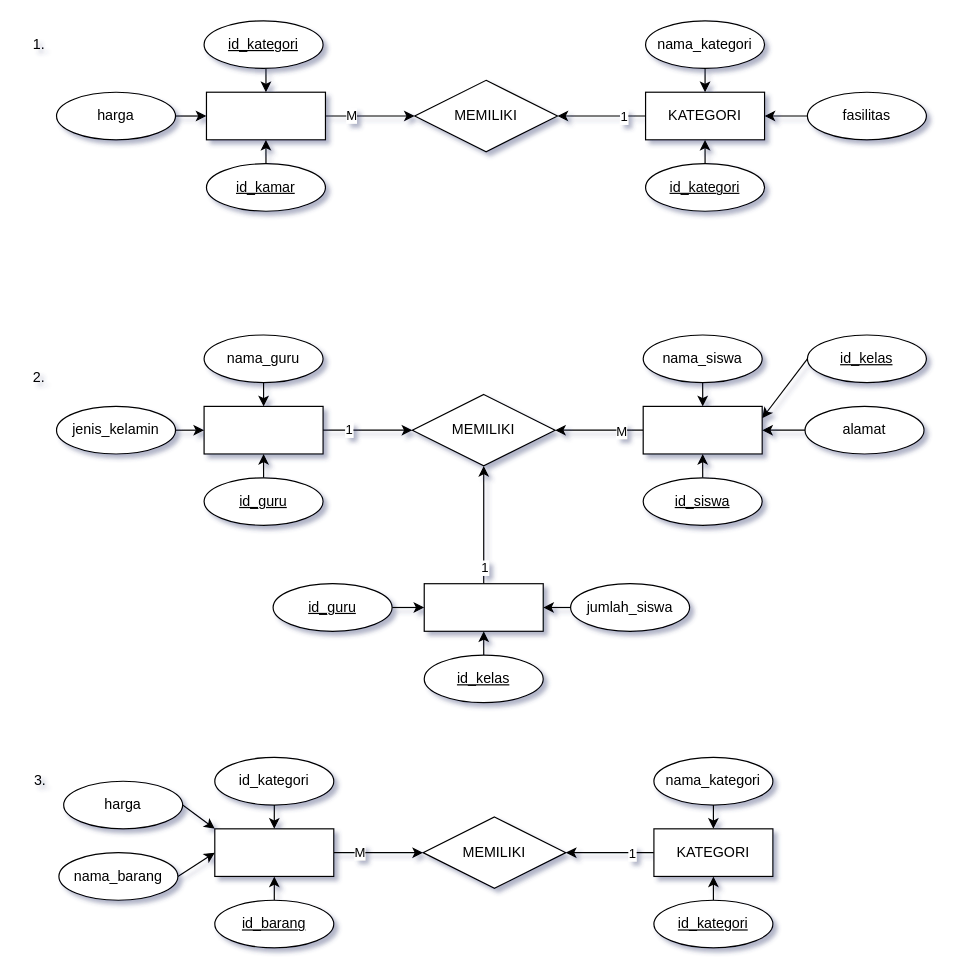
The diagram is 954 pixels wide and 976 high, and some of its shapes have lost their labels. Each missing label, with the centre of its shape:
"BARANG" belongs at point (274, 852).
"GURU" belongs at point (263, 429).
"KAMAR" belongs at point (265, 115).
"KELAS" belongs at point (483, 607).
"SISWA" belongs at point (702, 429).
